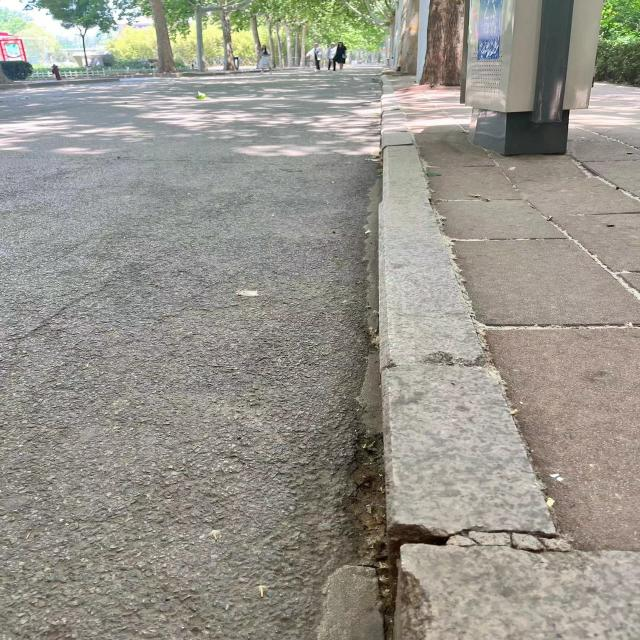curb: (365, 67, 544, 640), (390, 549, 639, 640)
